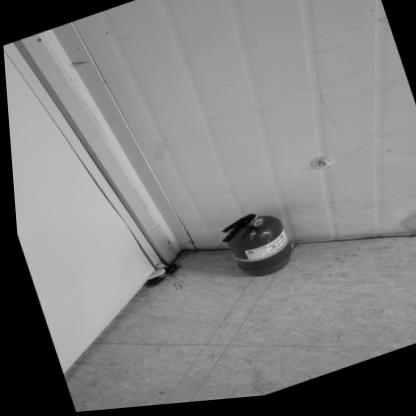FE: (213, 208, 294, 291)
